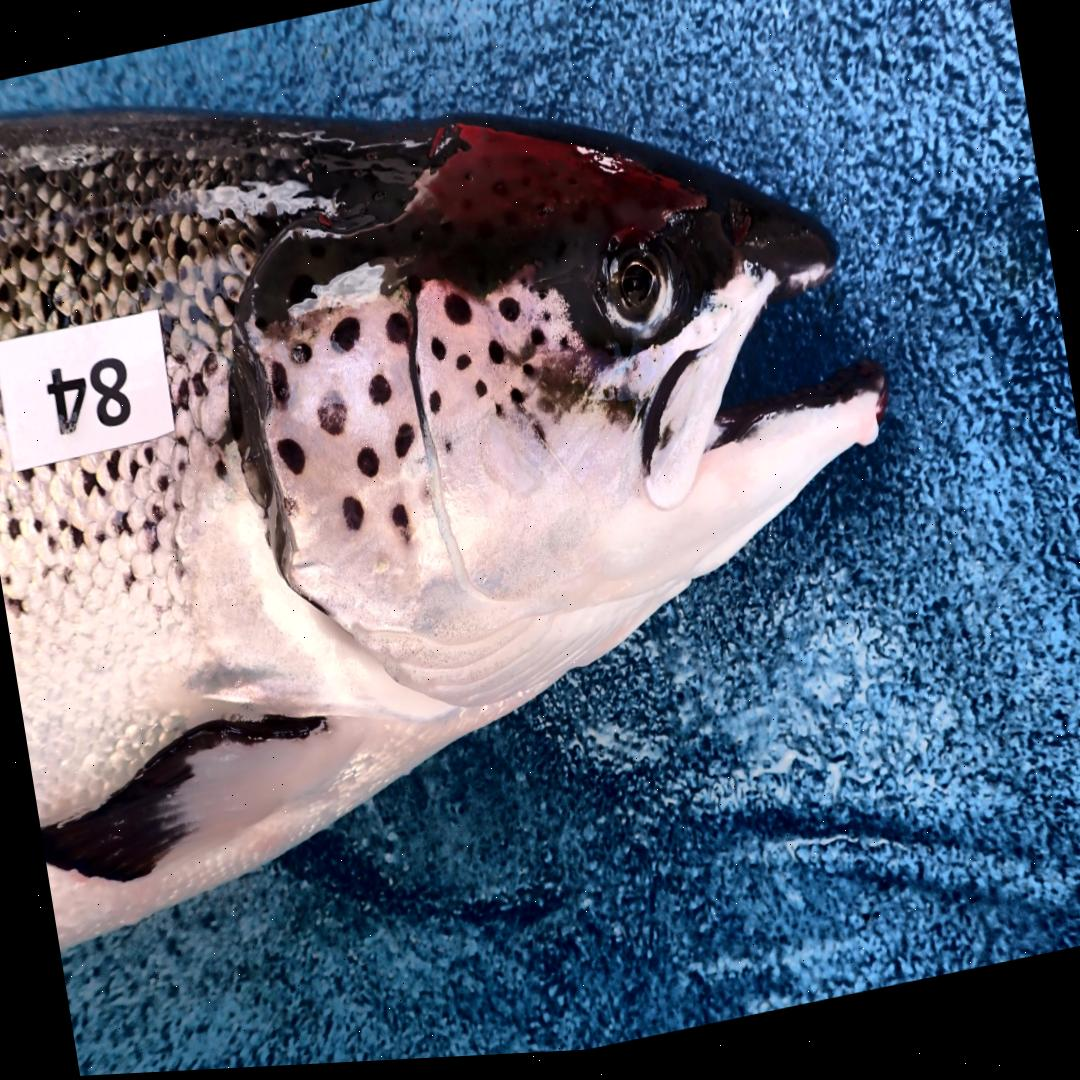spot: (315, 393, 345, 438), (330, 318, 359, 356), (275, 441, 304, 478), (269, 363, 289, 408), (443, 297, 471, 329), (385, 315, 409, 348), (341, 499, 363, 534), (367, 377, 390, 409), (389, 507, 409, 543), (393, 427, 414, 461), (356, 449, 378, 481), (496, 302, 519, 325), (288, 345, 311, 367), (429, 340, 445, 365), (487, 345, 503, 369), (427, 395, 440, 418), (455, 357, 470, 375), (282, 499, 297, 517), (529, 334, 544, 351), (532, 428, 545, 447), (474, 383, 486, 401), (508, 393, 522, 408), (557, 342, 568, 357), (521, 368, 531, 380), (494, 408, 501, 421), (541, 316, 549, 326), (444, 445, 451, 456), (537, 296, 545, 304)
